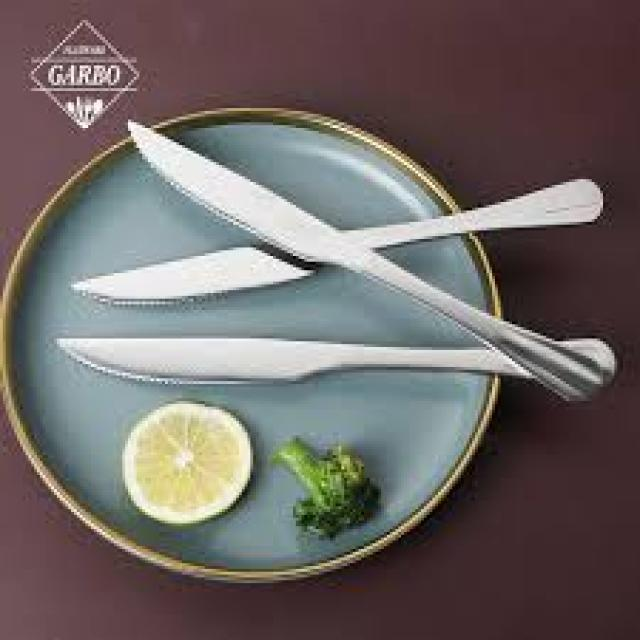Knife: (131, 119, 614, 398), (57, 336, 614, 401)
